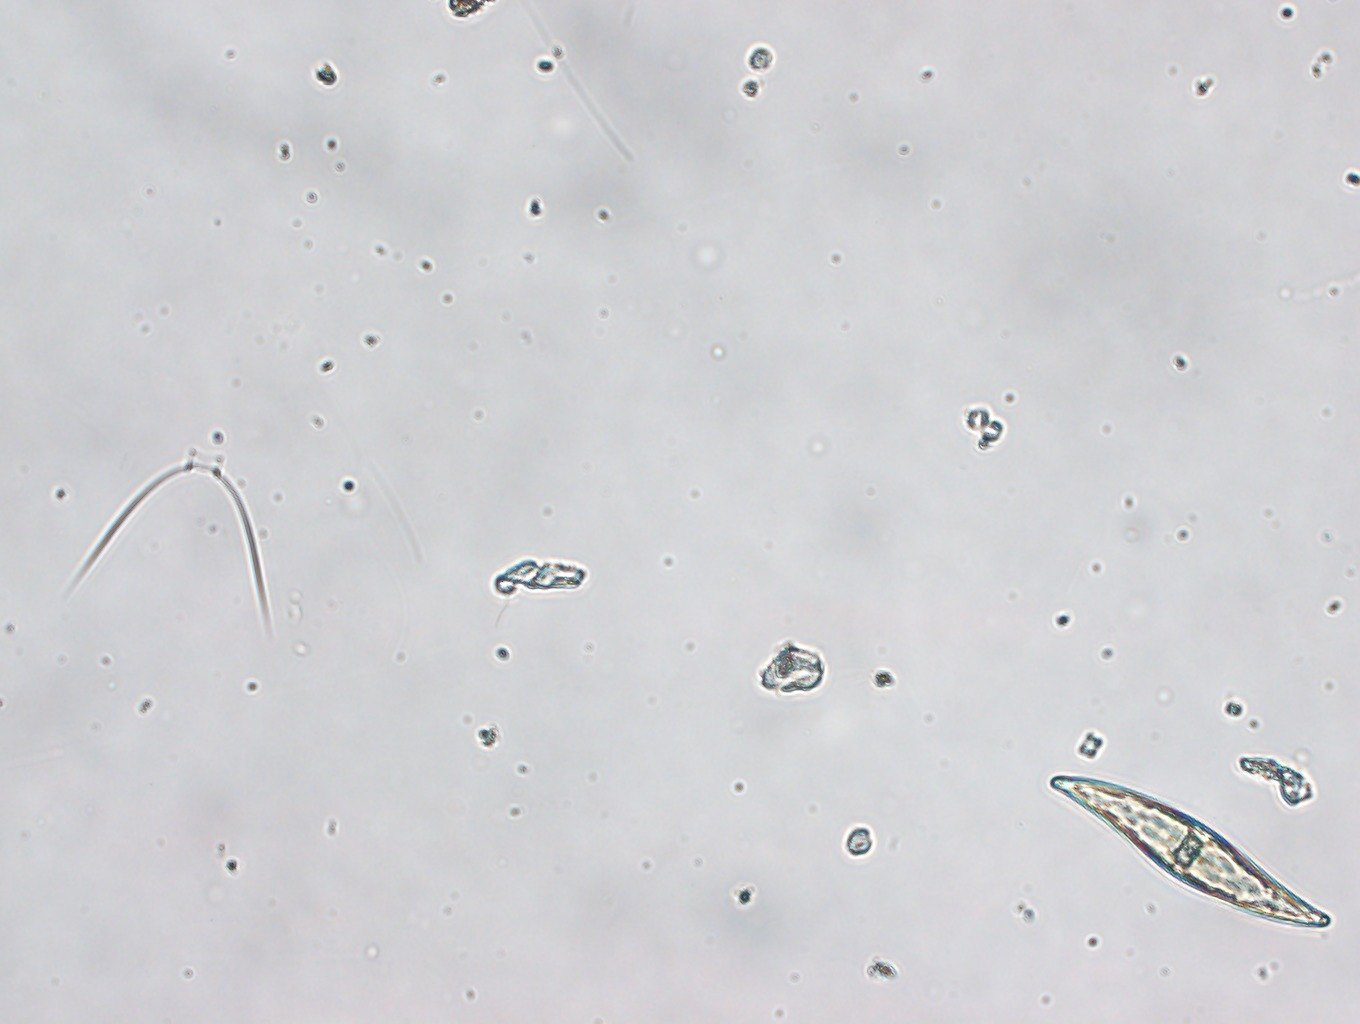chaetoceros: (73, 443, 278, 637)
pleurosigma pelagicum: (1046, 763, 1343, 955)
